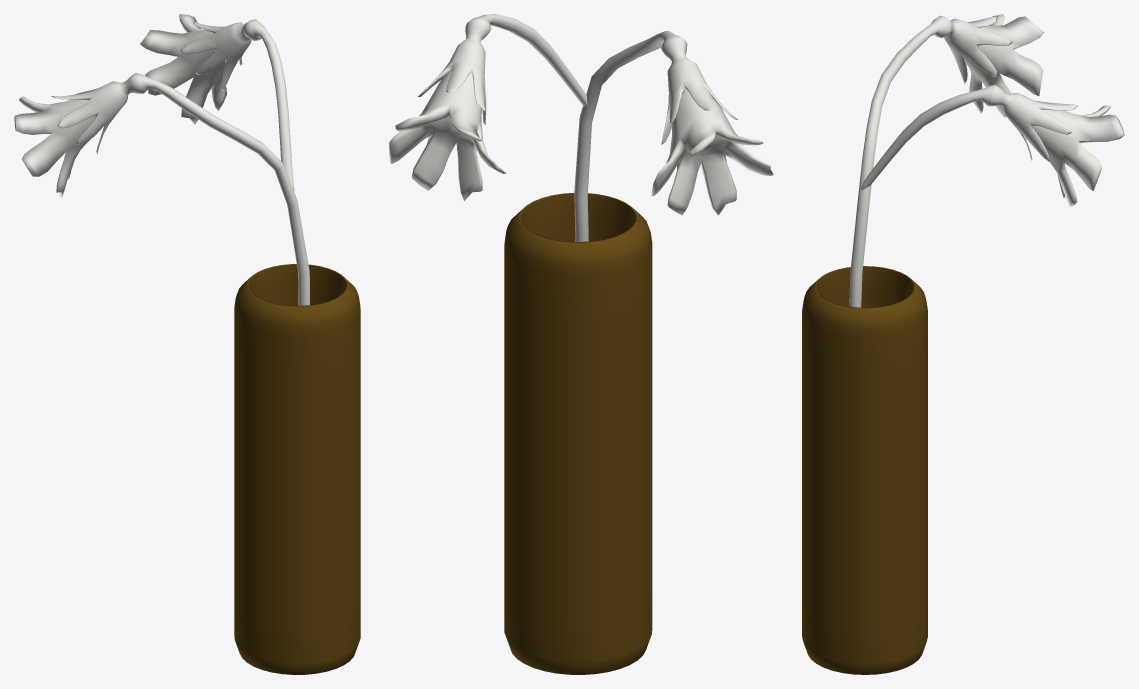
The model's file is LinaeaStatue.fbx.
3 views of the same model, side by side, from view 1: azimuth 30°, elevation 25°; view 2: azimuth 150°, elevation 25°; view 3: azimuth 270°, elevation 25° (orthographic). The views are drawn at different scales.
Visible parts, largest first — view 1: Cylinder, Cylinder.001; view 2: Cylinder, Cylinder.001; view 3: Cylinder, Cylinder.001.
Part boxes in pixels (bbox=[...]): Cylinder: bbox=[234, 264, 360, 674]; Cylinder.001: bbox=[14, 14, 309, 305]; Cylinder: bbox=[504, 193, 652, 674]; Cylinder.001: bbox=[389, 14, 773, 241]; Cylinder: bbox=[802, 266, 927, 674]; Cylinder.001: bbox=[849, 14, 1124, 307].
Size of the model in its own units: 577 by 1156 by 589.
